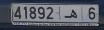1: (23, 5, 28, 21)
2: (46, 6, 55, 20)
4: (13, 5, 22, 20)
6: (87, 6, 97, 20)
8: (29, 7, 37, 19)
9: (38, 6, 46, 19)
h: (62, 8, 80, 20)
